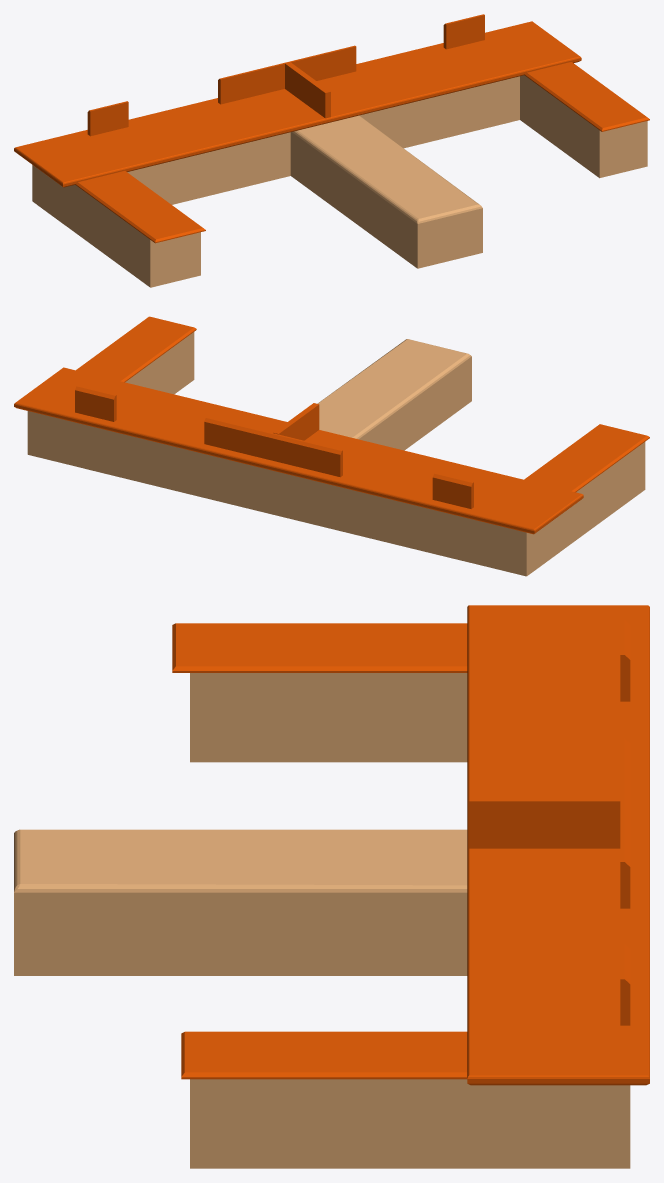
The model's file is reception.fbx.
The picture shows the model from 3 angles, top to bottom: view 1: azimuth 30°, elevation 25°; view 2: azimuth 150°, elevation 25°; view 3: azimuth 270°, elevation 25°; orthographic projection. The views are drawn at different scales.
Parts seen in each view (by area): view 1: reception; view 2: reception; view 3: reception.
Part boxes in pixels (x1,y1,x2,y2): reception: (14, 14, 649, 287); reception: (14, 316, 649, 576); reception: (14, 605, 649, 1168).
Size of the model in its own units: 5.28 by 0.7691 by 3.01.
